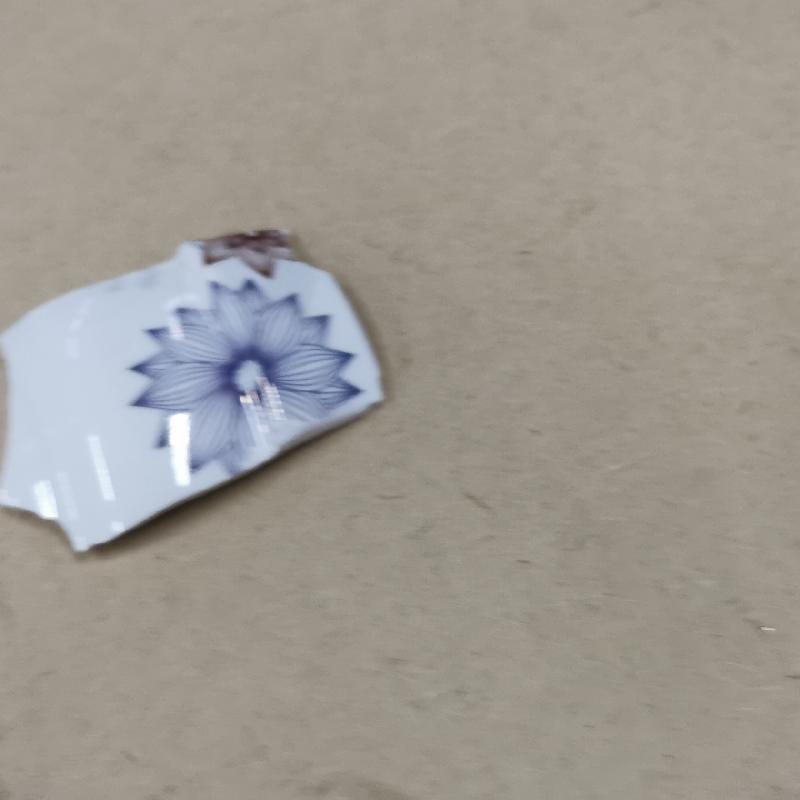ceram: (3, 224, 413, 550)
